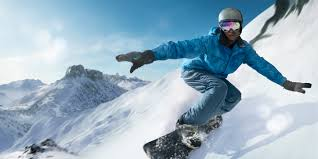snowboard: (142, 115, 222, 158)
